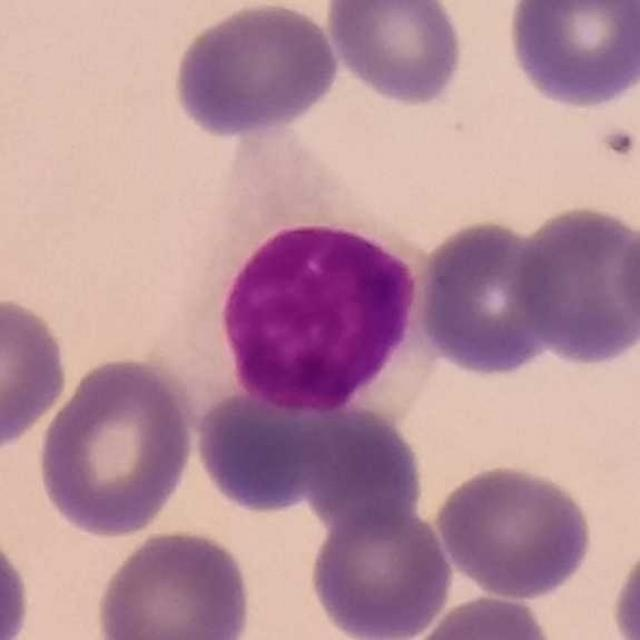Lymphocyte: (160, 122, 425, 418)
RBC: (188, 372, 405, 521), (35, 350, 198, 540), (168, 0, 344, 140), (413, 214, 559, 380), (433, 461, 598, 602), (511, 202, 640, 366), (306, 502, 455, 640), (91, 525, 256, 640), (322, 0, 468, 110), (502, 0, 640, 112), (0, 292, 71, 458), (408, 591, 559, 640), (0, 524, 35, 640), (613, 207, 640, 344), (607, 534, 640, 639)
